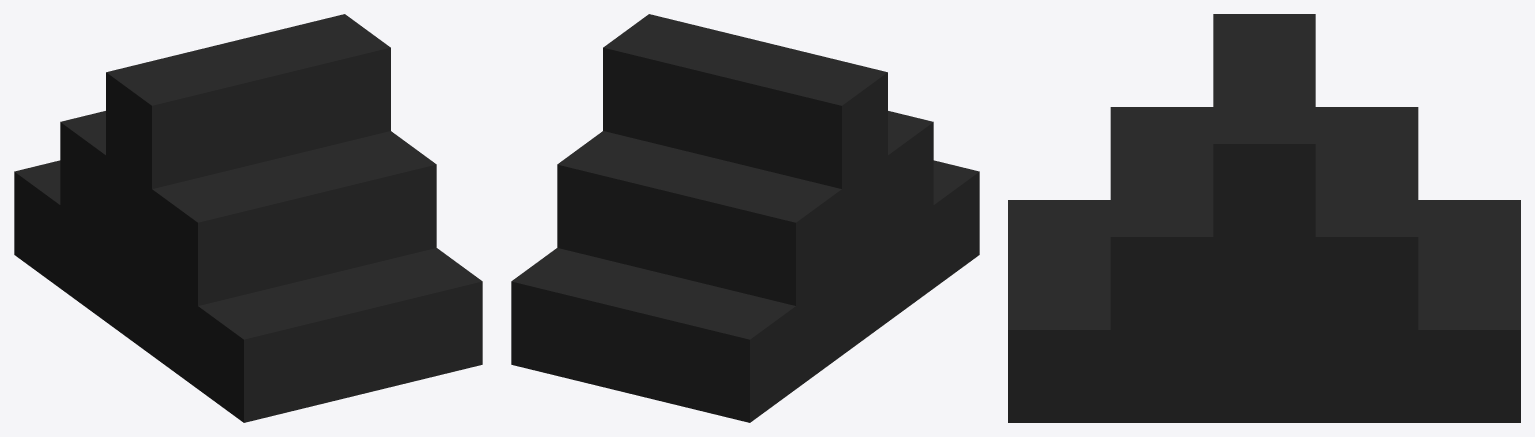
Rendered from Static_0_5friction.fbx.
The picture shows the model from 3 angles, left to right: view 1: azimuth 30°, elevation 25°; view 2: azimuth 150°, elevation 25°; view 3: azimuth 270°, elevation 25°; orthographic projection. The views are drawn at different scales.
Parts seen in each view (by area): view 1: S1StaticBox1, S1StaticBox2, S1StaticBox4, S1StaticBox3, S1StaticBox5; view 2: S1StaticBox1, S1StaticBox3, S1StaticBox5, S1StaticBox2, S1StaticBox4; view 3: S1StaticBox1, S1StaticBox2, S1StaticBox3, S1StaticBox4, S1StaticBox5.
Part boxes in pixels (x1,y1,x2,y2): S1StaticBox1: (106, 14, 390, 355); S1StaticBox2: (152, 131, 436, 388); S1StaticBox4: (198, 248, 482, 422); S1StaticBox3: (60, 111, 105, 321); S1StaticBox5: (14, 160, 60, 287); S1StaticBox1: (603, 14, 887, 355); S1StaticBox3: (557, 131, 841, 388); S1StaticBox5: (511, 248, 795, 422); S1StaticBox2: (888, 111, 933, 321); S1StaticBox4: (933, 160, 979, 287); S1StaticBox1: (1213, 14, 1315, 422); S1StaticBox2: (1110, 107, 1213, 422); S1StaticBox3: (1315, 107, 1418, 422); S1StaticBox4: (1008, 200, 1110, 422); S1StaticBox5: (1418, 200, 1520, 422).
Size of what is drawn, in the model's own units: 30 by 30 by 50.
